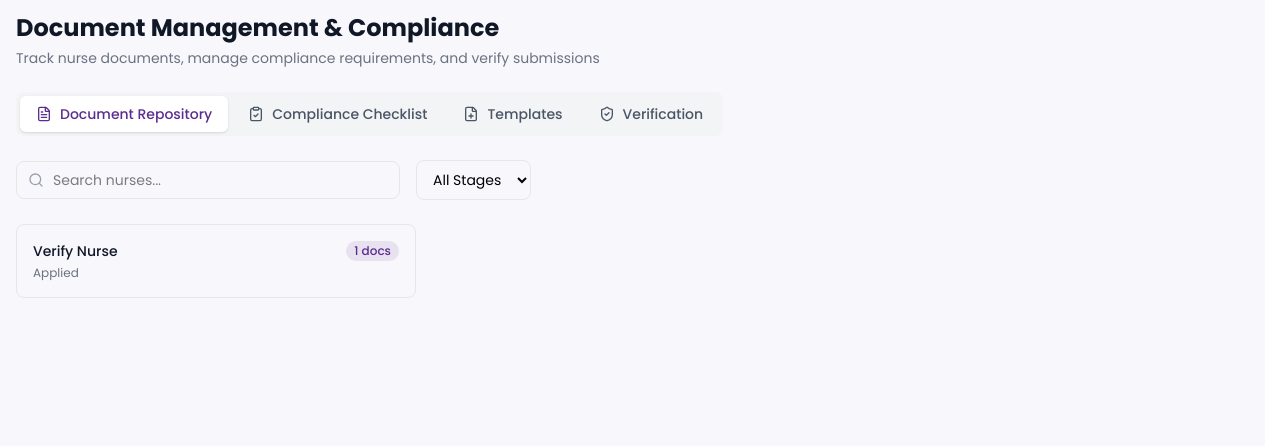
Workflow integration tests › Document verification workflow › renders the verification tab in Document Management
Click the Verification tab
Step 1. Click the button "Verification" → click(651, 114), box left=582, top=96, right=719, bottom=132
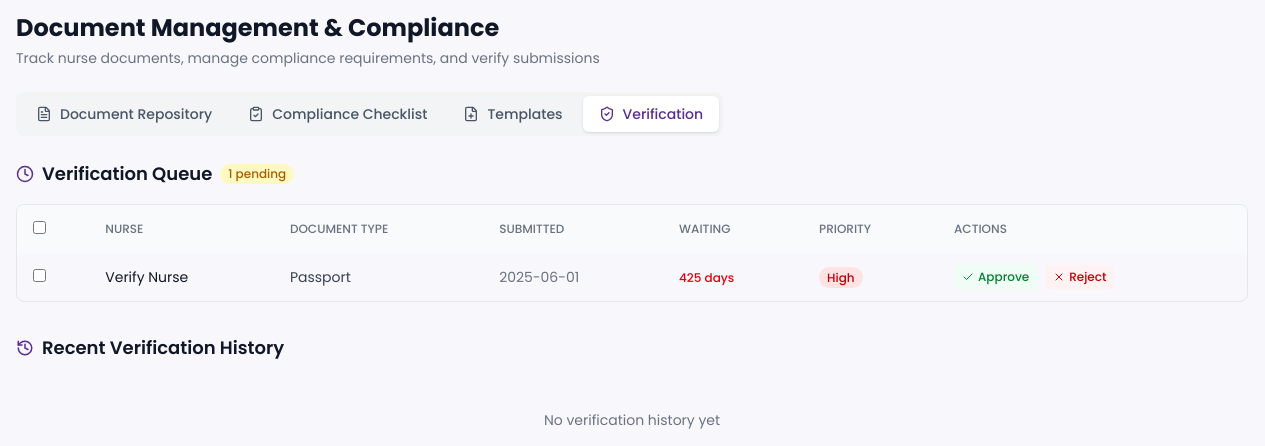
Result: the heading "Verification Queue" is shown at left=42, top=160, right=212, bottom=188
